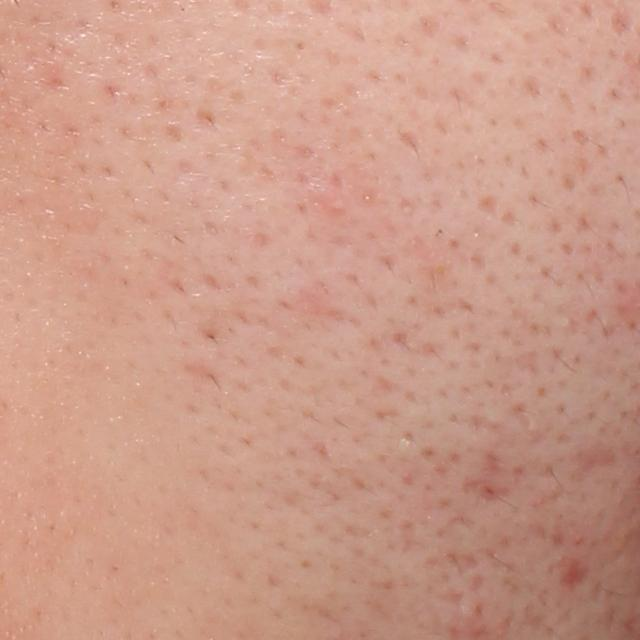atrophic_scar: (563, 439, 621, 482), (457, 473, 514, 504), (476, 444, 516, 478), (440, 550, 480, 579)
